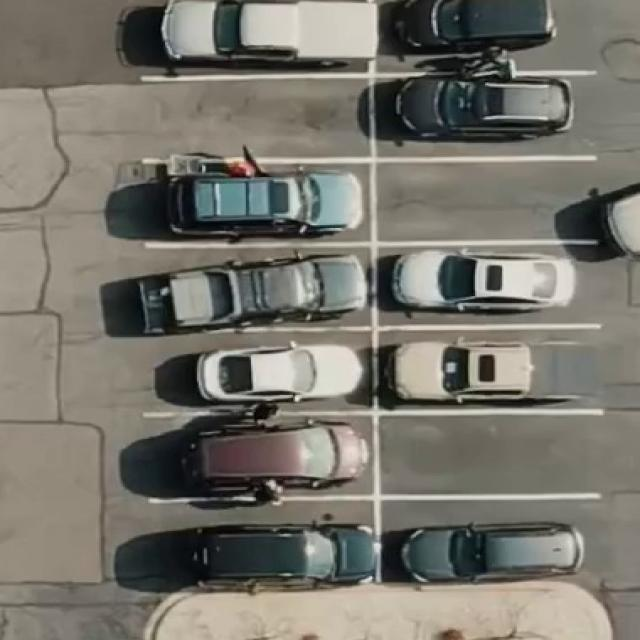empty: (146, 86, 355, 151), (384, 424, 593, 488)
notEmpty: (152, 422, 370, 493), (156, 512, 364, 586), (152, 250, 362, 323), (390, 506, 598, 579), (160, 337, 367, 410), (380, 81, 590, 151), (152, 171, 362, 240), (383, 3, 597, 69), (151, 3, 358, 71), (384, 251, 597, 317), (384, 339, 603, 403), (383, 170, 593, 236)
